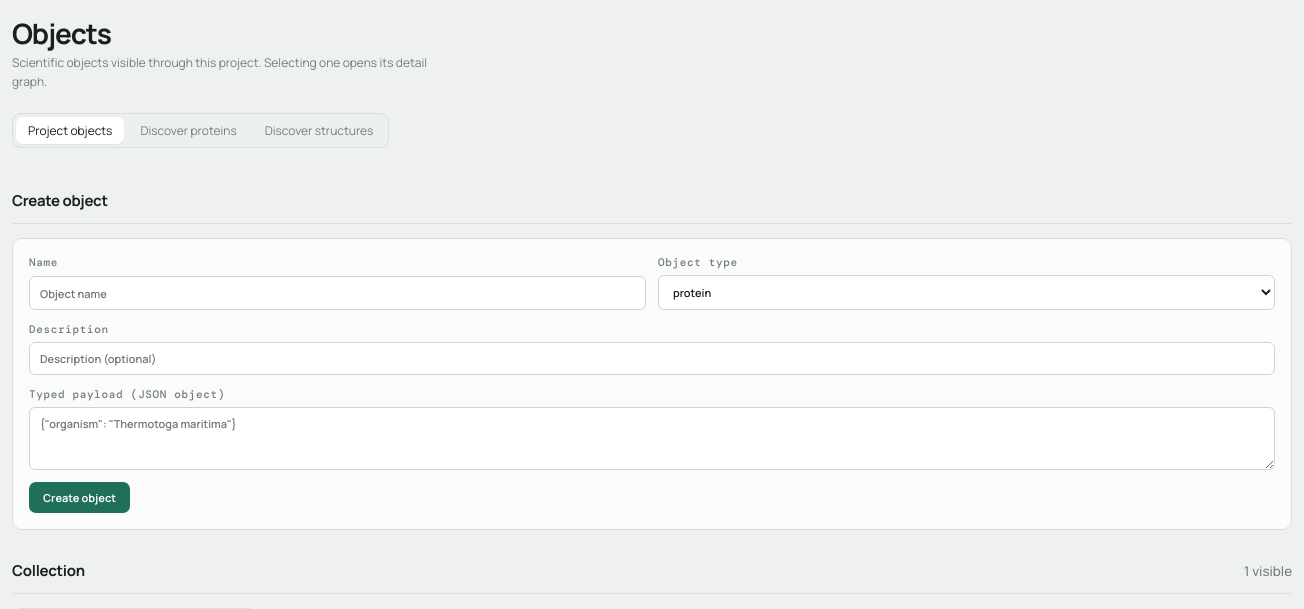
Test: ObjectsView panel switch › keeps import discipline visible in the discovery panel
Click the tab "Discover proteins": (189, 131) left=128, top=117, right=249, bottom=144
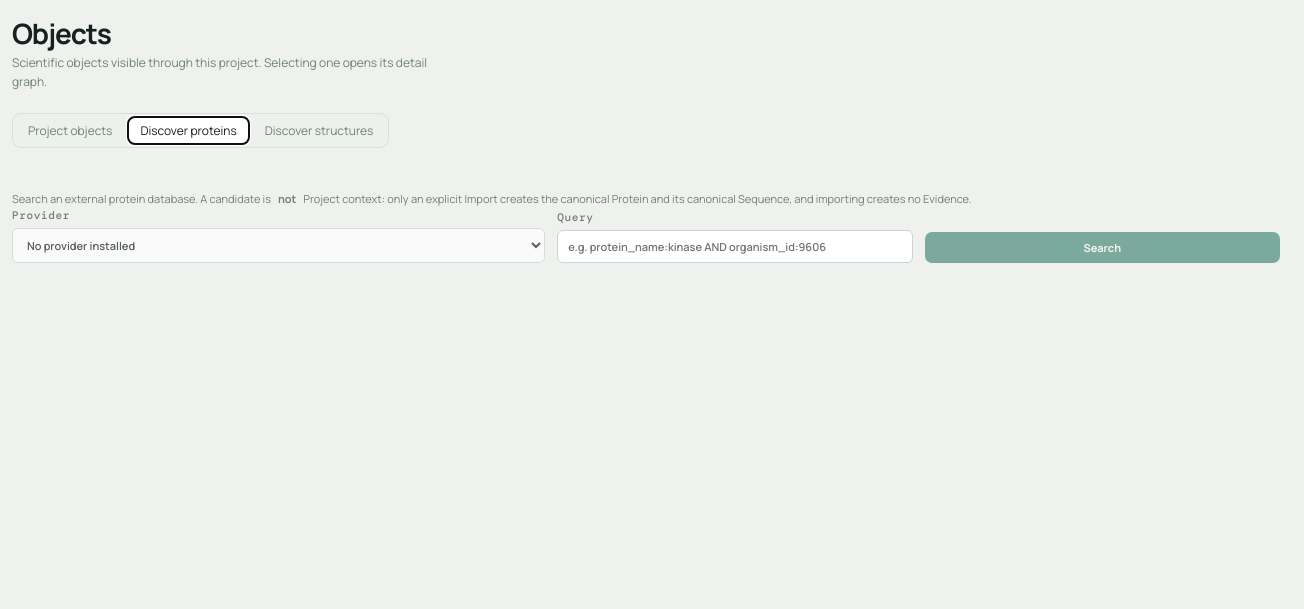
Now the text "only an explicit Import creates the canonical Protein" is shown, box left=303, top=191, right=972, bottom=206
